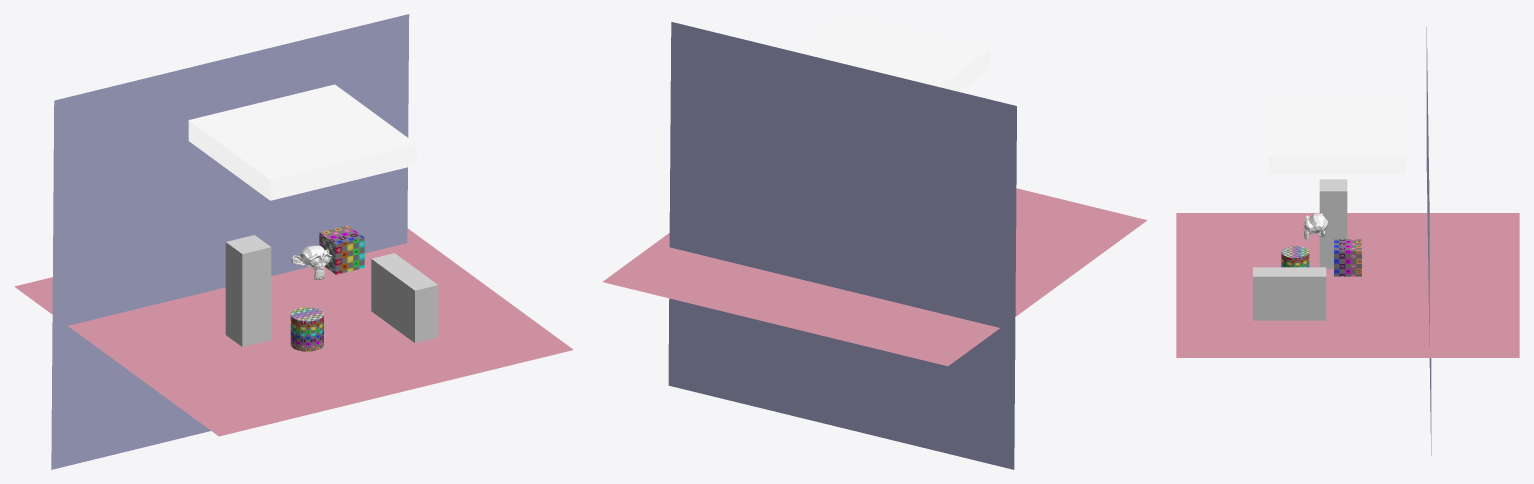
Rendered from pathtracer_test_texture.glb.
3 renders of one model, left to right at view 1: azimuth 30°, elevation 25°; view 2: azimuth 150°, elevation 25°; view 3: azimuth 270°, elevation 25°, orthographic. The views are drawn at different scales.
Parts seen in each view (by area): view 1: Plane.002, Plane.001, Cube.002, Cube, Cube.001, Cube.003, Cylinder, Suzanne; view 2: Plane.002, Plane.001, Cube.002; view 3: Plane.001, Cube.002, Cube.001, Cube, Cube.003, Plane.002, Cylinder, Suzanne.
Boxes of the visible parts, x1,y1,x2,y2 form: Plane.002: [51, 14, 409, 469]; Plane.001: [14, 228, 573, 436]; Cube.002: [188, 84, 416, 200]; Cube: [225, 235, 271, 346]; Cube.001: [371, 253, 438, 342]; Cube.003: [319, 225, 364, 274]; Cylinder: [290, 307, 323, 351]; Suzanne: [291, 245, 331, 279]; Plane.002: [668, 22, 1016, 469]; Plane.001: [603, 188, 1147, 366]; Cube.002: [796, 14, 990, 91]; Plane.001: [1176, 213, 1519, 357]; Cube.002: [1268, 97, 1405, 174]; Cube.001: [1253, 267, 1326, 320]; Cube: [1319, 179, 1347, 268]; Cube.003: [1334, 239, 1361, 276]; Plane.002: [1426, 27, 1431, 455]; Cylinder: [1281, 246, 1309, 267]; Suzanne: [1303, 213, 1328, 240].
Size of the model in its own units: 25.67 by 24.6 by 24.61.
8 materials, 2 textured.
